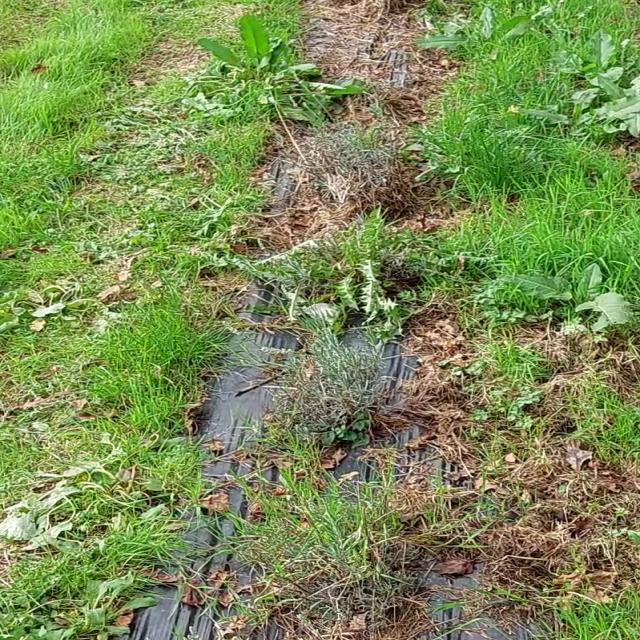organic waste: (163, 14, 343, 121), (0, 463, 133, 552), (502, 256, 634, 334), (504, 76, 640, 137), (12, 273, 135, 336), (534, 16, 630, 93), (421, 0, 529, 67)
